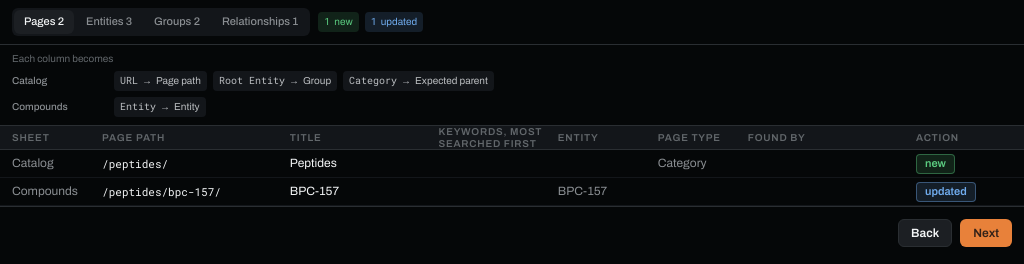
Test case: the preview of a workbook › lists the groups with their trail, the page each found, their rows and their sheet
Click the radio button labelled "Groups 2" at (177, 22), box [144,10,210,34]
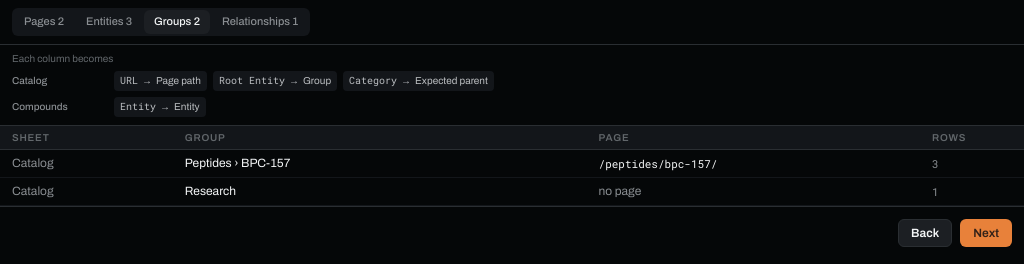
Expected: the text "/peptides/bpc-157/" is shown, [598,156,717,171]
Now the text "3" is shown, box [932,156,939,171]
Now the text "no page" is shown, box [598,184,641,198]
